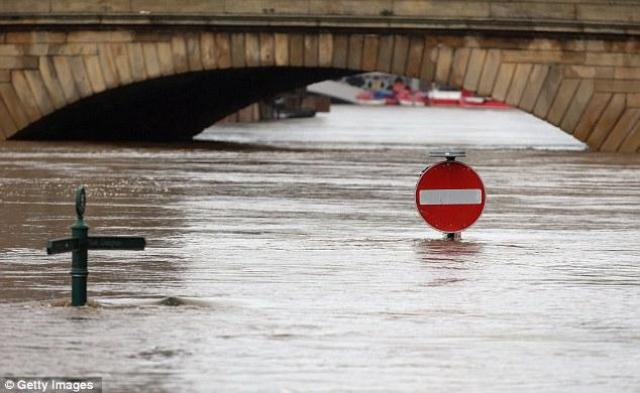B2: (413, 159, 485, 235)
